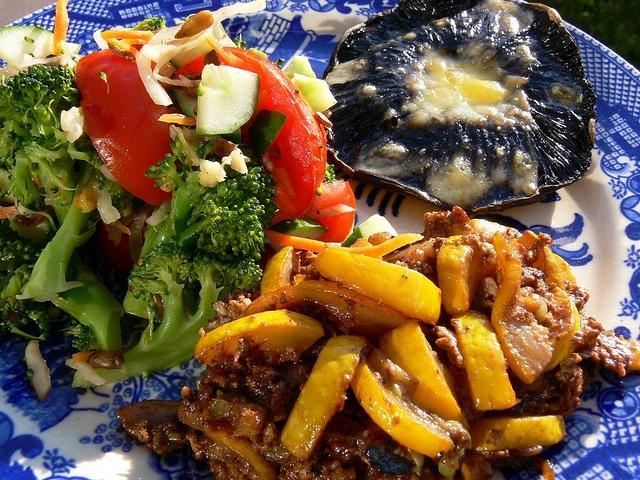broccoli: (90, 168, 277, 381), (15, 143, 104, 300), (51, 250, 123, 352), (5, 64, 80, 140), (27, 310, 53, 330), (323, 162, 338, 183)
carrot: (264, 228, 424, 257), (101, 30, 154, 57), (205, 34, 242, 66), (53, 0, 69, 56), (158, 114, 197, 126), (0, 205, 18, 219), (82, 188, 96, 202)
mushroom: (322, 0, 598, 218)
